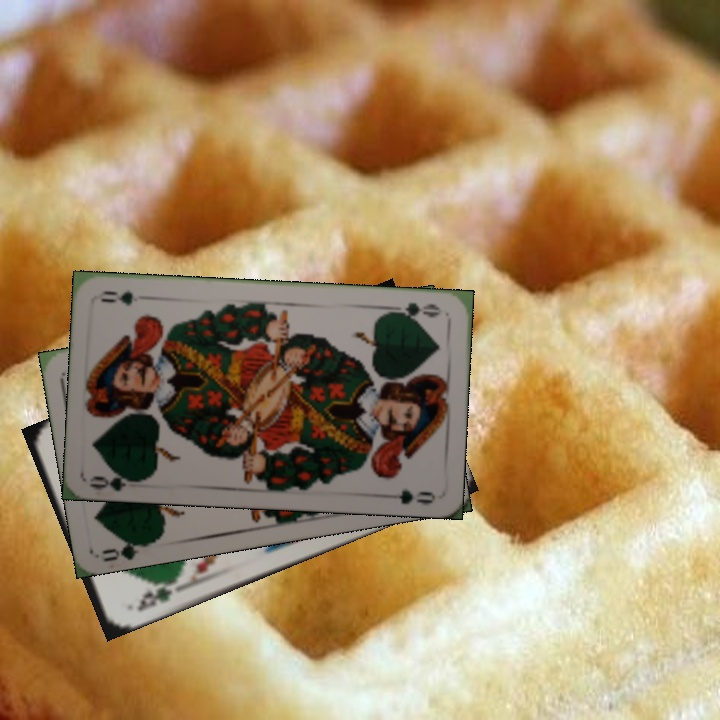GK: (133, 578, 175, 614)
GO: (98, 534, 156, 565), (88, 466, 147, 494), (387, 299, 444, 322)
